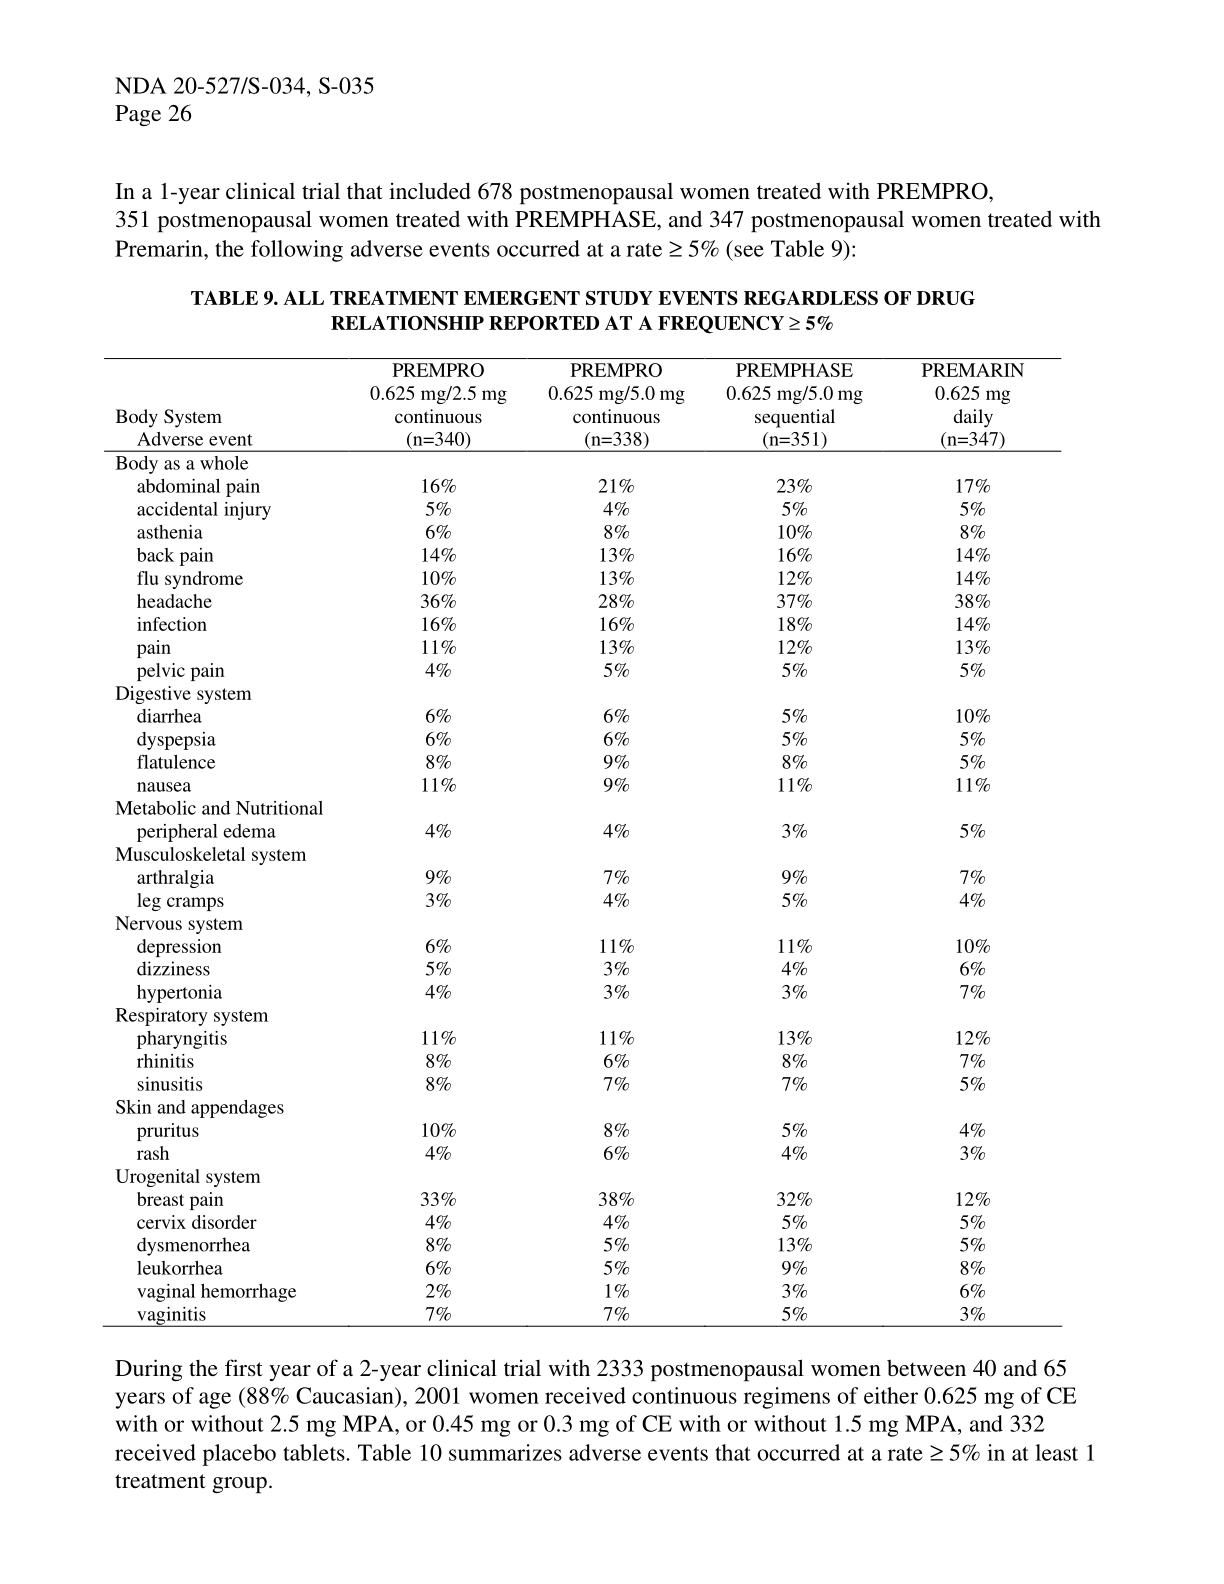partial_lined: (102, 354, 1065, 1327)
